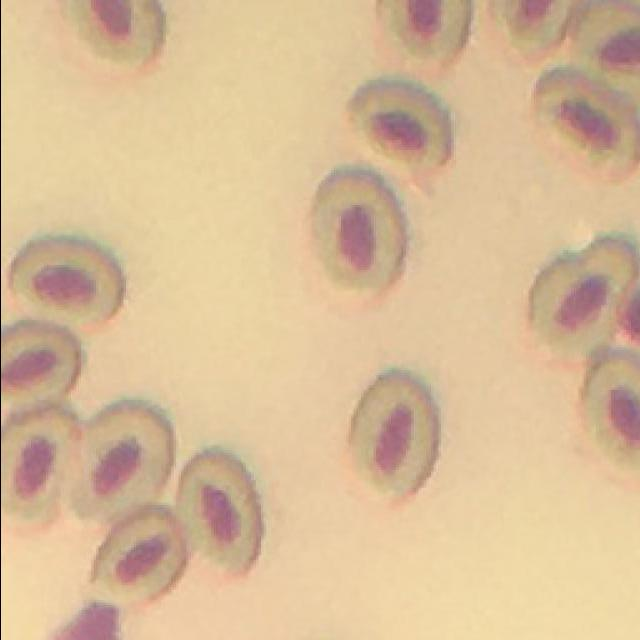RBC: (528, 239, 637, 361), (531, 66, 640, 180), (71, 404, 171, 521), (311, 171, 403, 290), (349, 375, 437, 495), (176, 452, 259, 572), (9, 240, 122, 325), (346, 82, 451, 171), (91, 509, 183, 602), (0, 409, 72, 522), (570, 0, 640, 100), (581, 354, 640, 470), (61, 0, 161, 66), (0, 322, 78, 405), (376, 0, 468, 61), (492, 0, 572, 54)
WBC: (52, 604, 115, 640)
